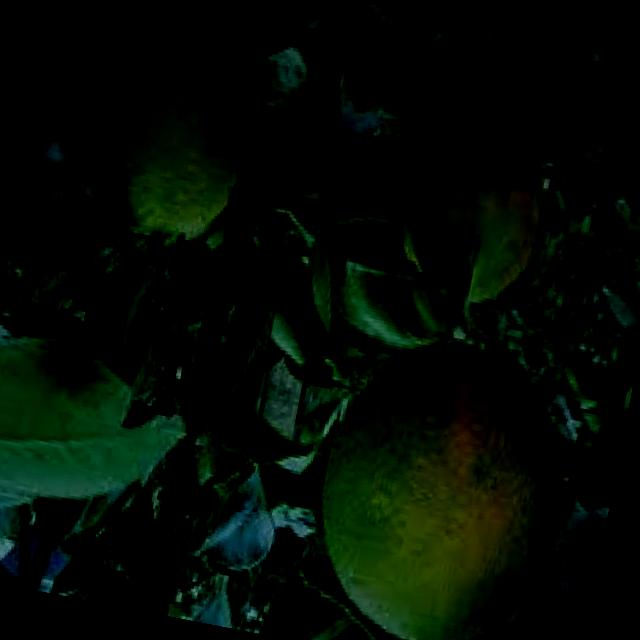Orange: (281, 309, 607, 640), (39, 0, 276, 258), (367, 107, 568, 320)
